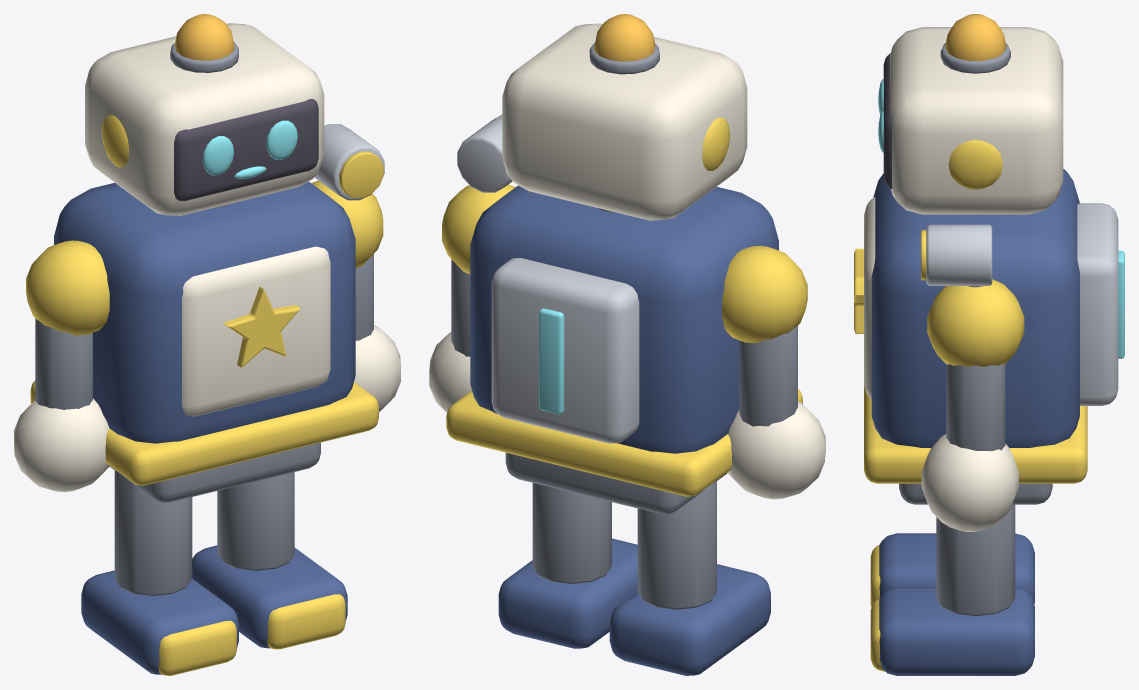
Rendered from SecurityBot.fbx.
3 views of the same model, side by side, from view 1: azimuth 30°, elevation 25°; view 2: azimuth 150°, elevation 25°; view 3: azimuth 270°, elevation 25° (orthographic). The views are drawn at different scales.
Parts seen in each view (by area): view 1: SecurityBot_Torso, SecurityBot_Head, SecurityBot_Chest, SecurityBot_Belt, SecurityBot_Visor, SecurityBot_FootL, SecurityBot_LegL, SecurityBot_HandL, SecurityBot_FootR, SecurityBot_LegR, SecurityBot_ShoulderL, SecurityBot_ArmL (+14 smaller); view 2: SecurityBot_Torso, SecurityBot_Head, SecurityBot_Pack, SecurityBot_Belt, SecurityBot_FootL, SecurityBot_FootR, SecurityBot_LegL, SecurityBot_LegR, SecurityBot_HandL, SecurityBot_ShoulderL, SecurityBot_ArmL, SecurityBot_Hips (+8 smaller); view 3: SecurityBot_Torso, SecurityBot_Head, SecurityBot_FootR, SecurityBot_Pack, SecurityBot_HandR, SecurityBot_LegR, SecurityBot_ShoulderR, SecurityBot_Belt, SecurityBot_ArmR, SecurityBot_FootL, SecurityBot_Searchlight, SecurityBot_Siren (+9 smaller).
Boxes of the visible parts, <box> form: SecurityBot_Torso: <box>54,181,355,443</box>; SecurityBot_Head: <box>85,23,324,215</box>; SecurityBot_Chest: <box>182,246,330,416</box>; SecurityBot_Belt: <box>30,380,378,485</box>; SecurityBot_Visor: <box>174,99,318,201</box>; SecurityBot_FootL: <box>81,570,238,674</box>; SecurityBot_LegL: <box>114,470,192,595</box>; SecurityBot_HandL: <box>14,398,109,492</box>; SecurityBot_FootR: <box>192,545,347,648</box>; SecurityBot_LegR: <box>217,472,294,570</box>; SecurityBot_ShoulderL: <box>26,240,109,335</box>; SecurityBot_ArmL: <box>35,318,92,409</box>; SecurityBot_Torso: <box>470,185,778,453</box>; SecurityBot_Head: <box>502,23,747,220</box>; SecurityBot_Pack: <box>491,258,639,443</box>; SecurityBot_Belt: <box>446,389,802,496</box>; SecurityBot_FootL: <box>609,564,770,675</box>; SecurityBot_FootR: <box>498,538,637,648</box>; SecurityBot_LegL: <box>637,481,716,609</box>; SecurityBot_LegR: <box>532,483,611,583</box>; SecurityBot_HandL: <box>727,401,825,499</box>; SecurityBot_ShoulderL: <box>722,245,807,343</box>; SecurityBot_ArmL: <box>739,326,797,426</box>; SecurityBot_Hips: <box>505,452,727,514</box>; SecurityBot_Torso: <box>871,169,1079,447</box>; SecurityBot_Head: <box>890,27,1063,214</box>; SecurityBot_FootR: <box>879,587,1034,675</box>; SecurityBot_Pack: <box>1077,203,1118,405</box>; SecurityBot_HandR: <box>921,434,1018,531</box>; SecurityBot_LegR: <box>936,504,1015,616</box>; SecurityBot_ShoulderR: <box>927,279,1024,366</box>; SecurityBot_Belt: <box>864,385,1087,483</box>; SecurityBot_ArmR: <box>946,364,1005,451</box>; SecurityBot_FootL: <box>879,533,1034,603</box>; SecurityBot_Searchlight: <box>926,224,992,285</box>; SecurityBot_Siren: <box>945,14,1006,60</box>.
Bounding box in the file's own units: 400 × 620 × 247.
